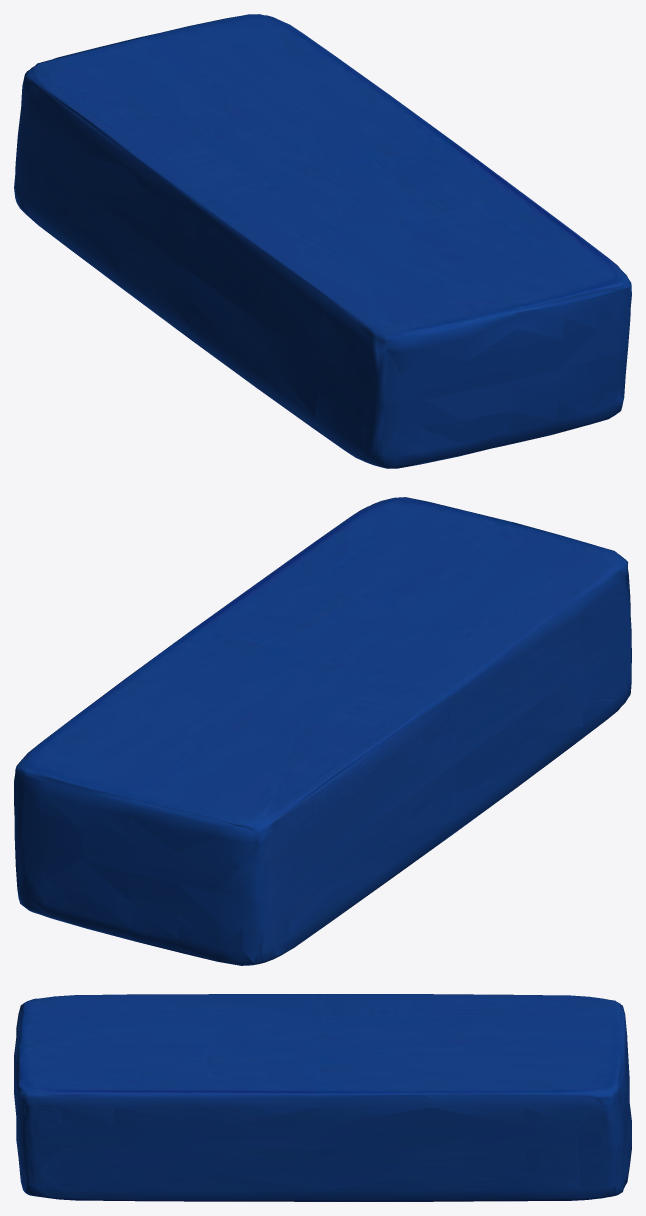
File: block_blue_02.glb
The picture shows the model from 3 angles, top to bottom: view 1: azimuth 30°, elevation 25°; view 2: azimuth 150°, elevation 25°; view 3: azimuth 270°, elevation 25°; orthographic projection. The views are drawn at different scales.
Parts seen in each view (by area): view 1: dark_blue_plank__export_tmp; view 2: dark_blue_plank__export_tmp; view 3: dark_blue_plank__export_tmp.
Boxes of the visible parts, x1,y1,x2,y2 form: dark_blue_plank__export_tmp: (14, 14, 631, 468); dark_blue_plank__export_tmp: (14, 497, 631, 965); dark_blue_plank__export_tmp: (14, 994, 631, 1201).
Size of the model in its own units: 1.35 by 0.675 by 3.38.
1 material, 1 textured.
